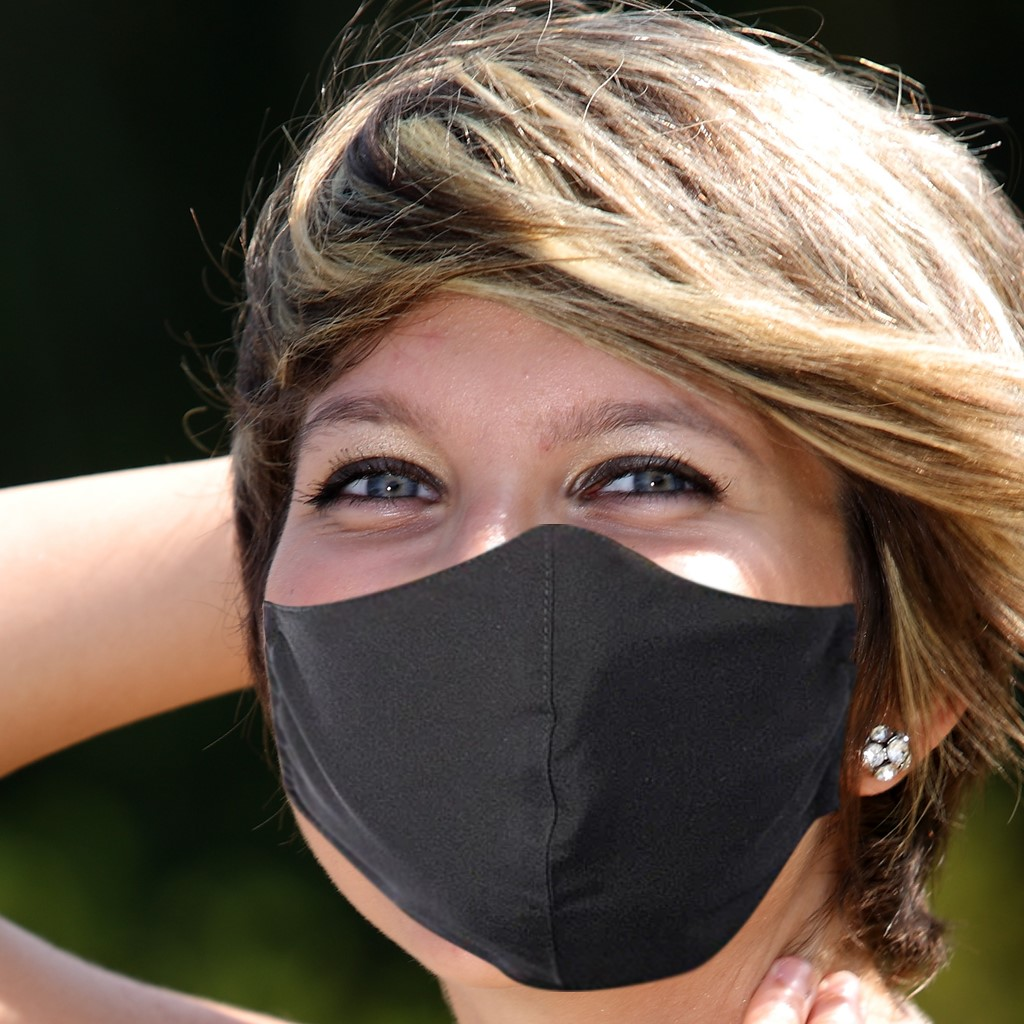con_mascara: (227, 232, 899, 980)
